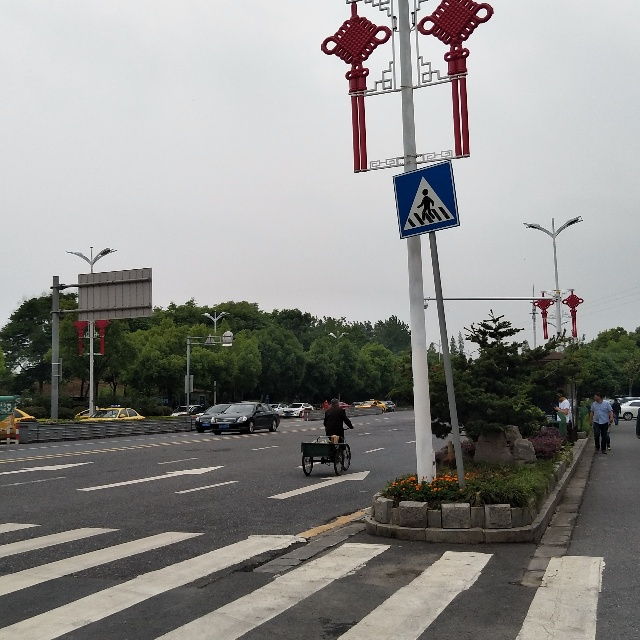crosswalk: (392, 161, 463, 240)
